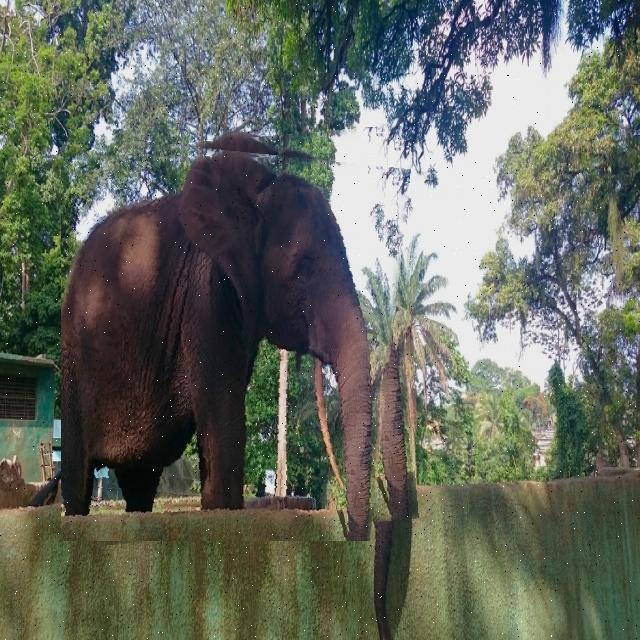elephant: (61, 133, 411, 541)
